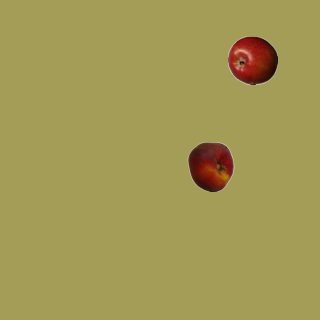Apple Braeburn: (227, 35, 277, 85)
Nectarine Flat: (185, 141, 235, 191)
